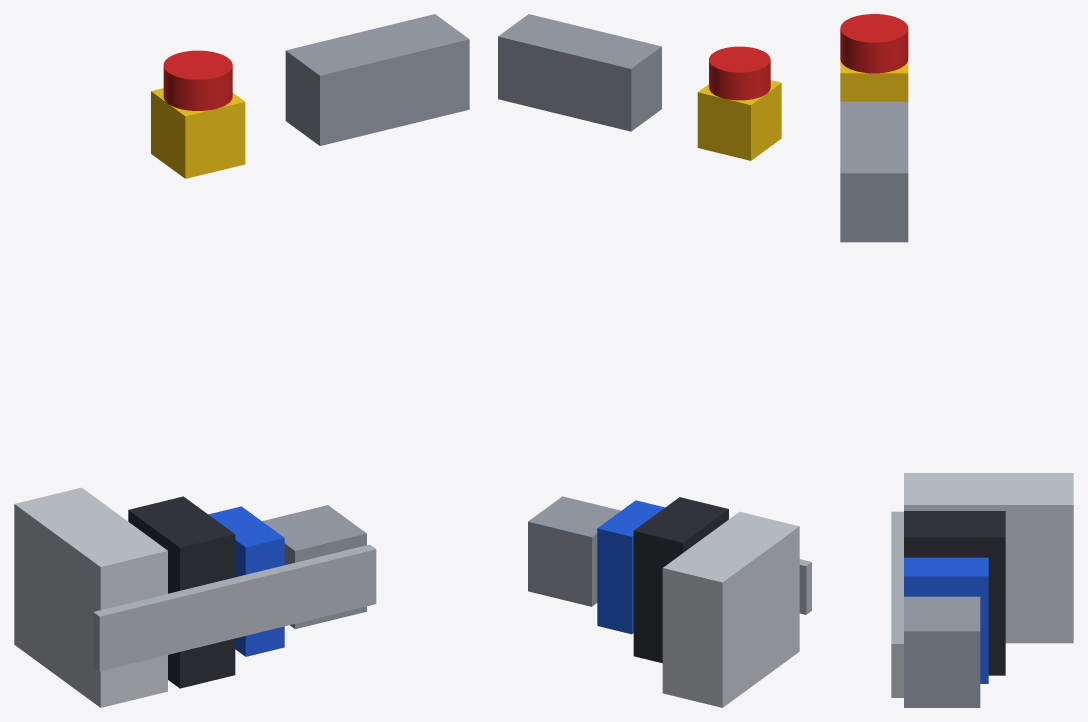
File: rack_electronics.glb
The picture shows the model from 3 angles, left to right: view 1: azimuth 30°, elevation 25°; view 2: azimuth 150°, elevation 25°; view 3: azimuth 270°, elevation 25°; orthographic projection. The views are drawn at different scales.
Visible parts, largest first — view 1: rack_electronics (×7); view 2: rack_electronics (×7); view 3: rack_electronics (×7).
Part boxes in pixels (<box>): rack_electronics (×7): <box>14,14,469,707</box>; rack_electronics (×7): <box>498,14,811,707</box>; rack_electronics (×7): <box>840,14,1073,707</box>.
Bounding box in the file's own units: 0.23 × 0.405 × 0.1375.
